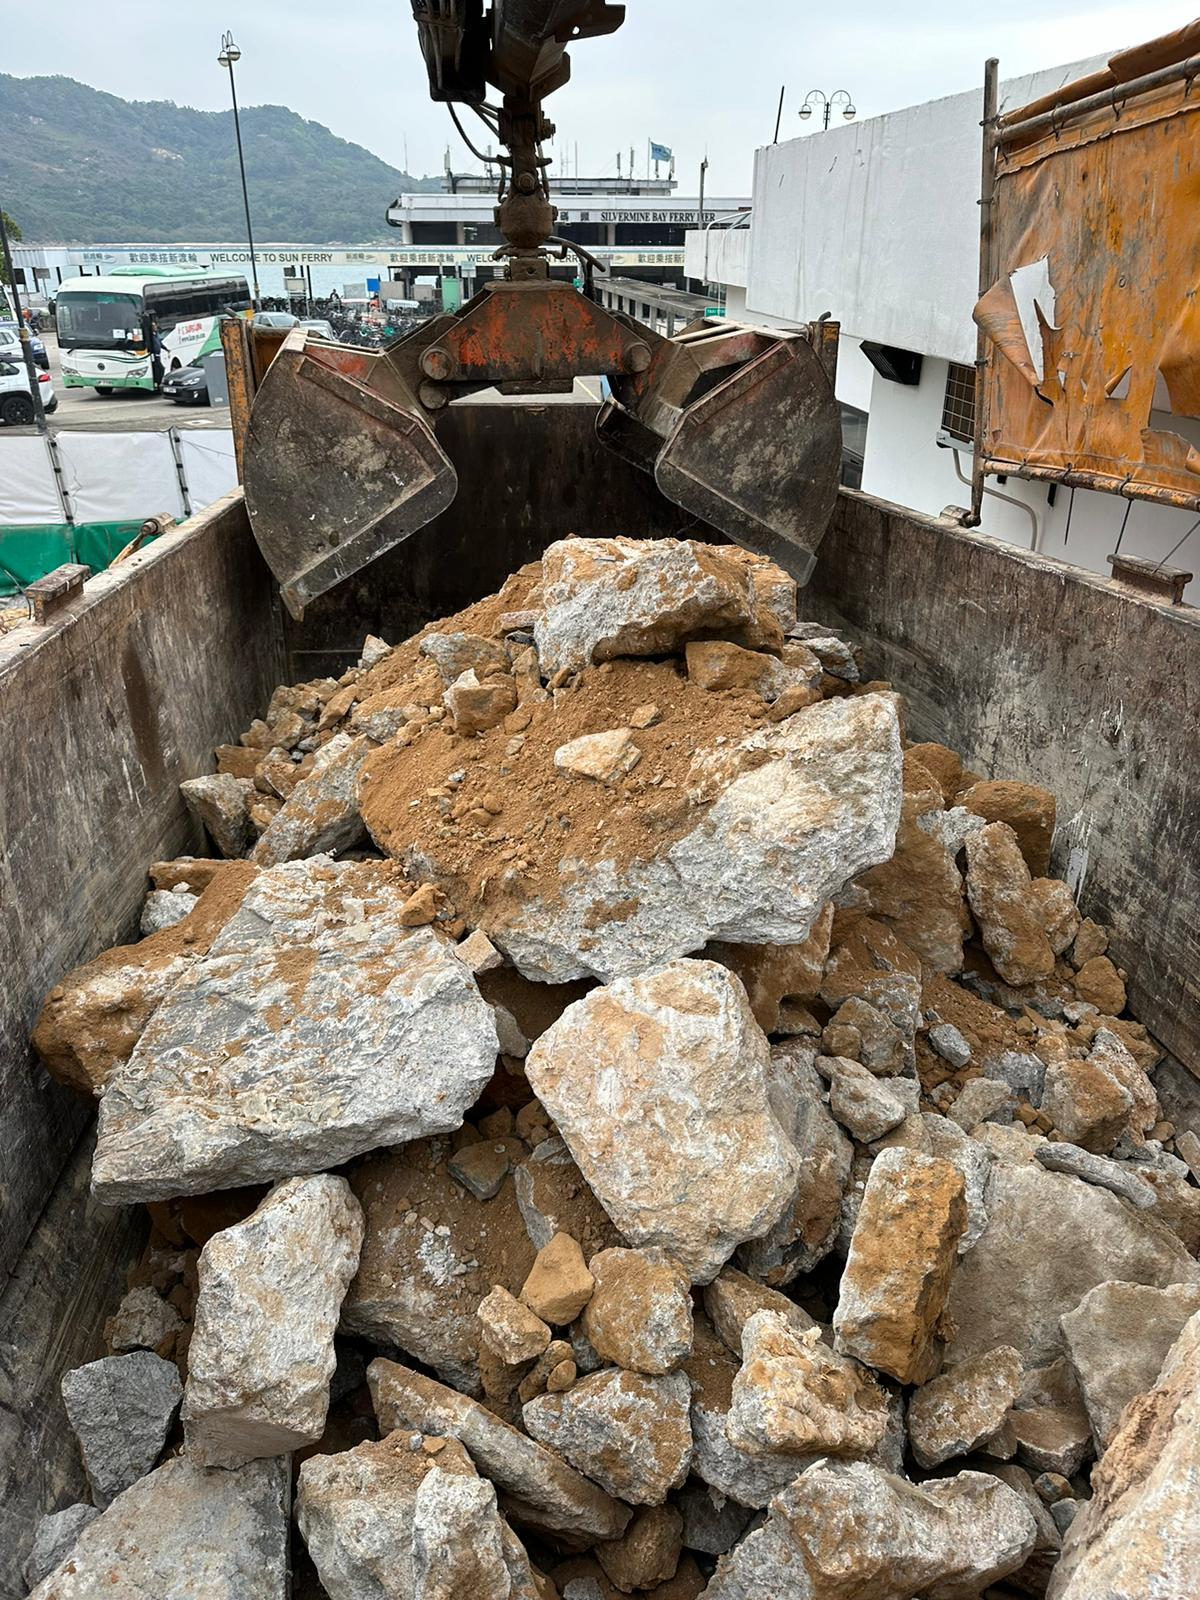dry: (33, 556, 1190, 1587)
